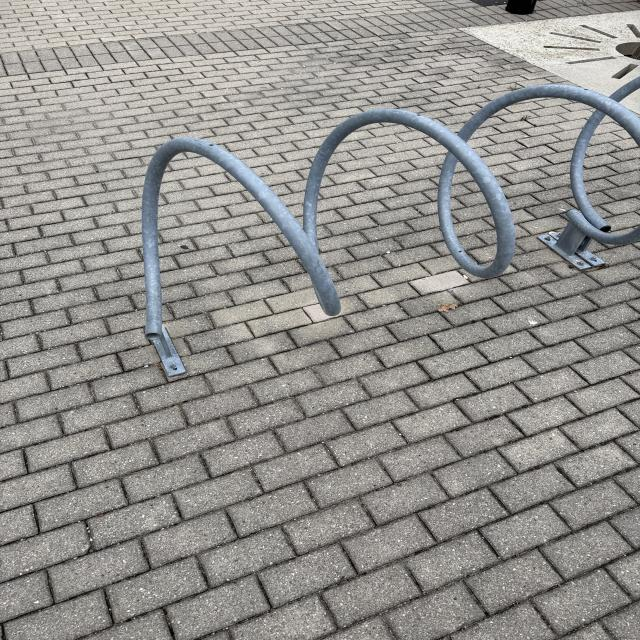Bicycle Rack: (141, 78, 640, 374)
